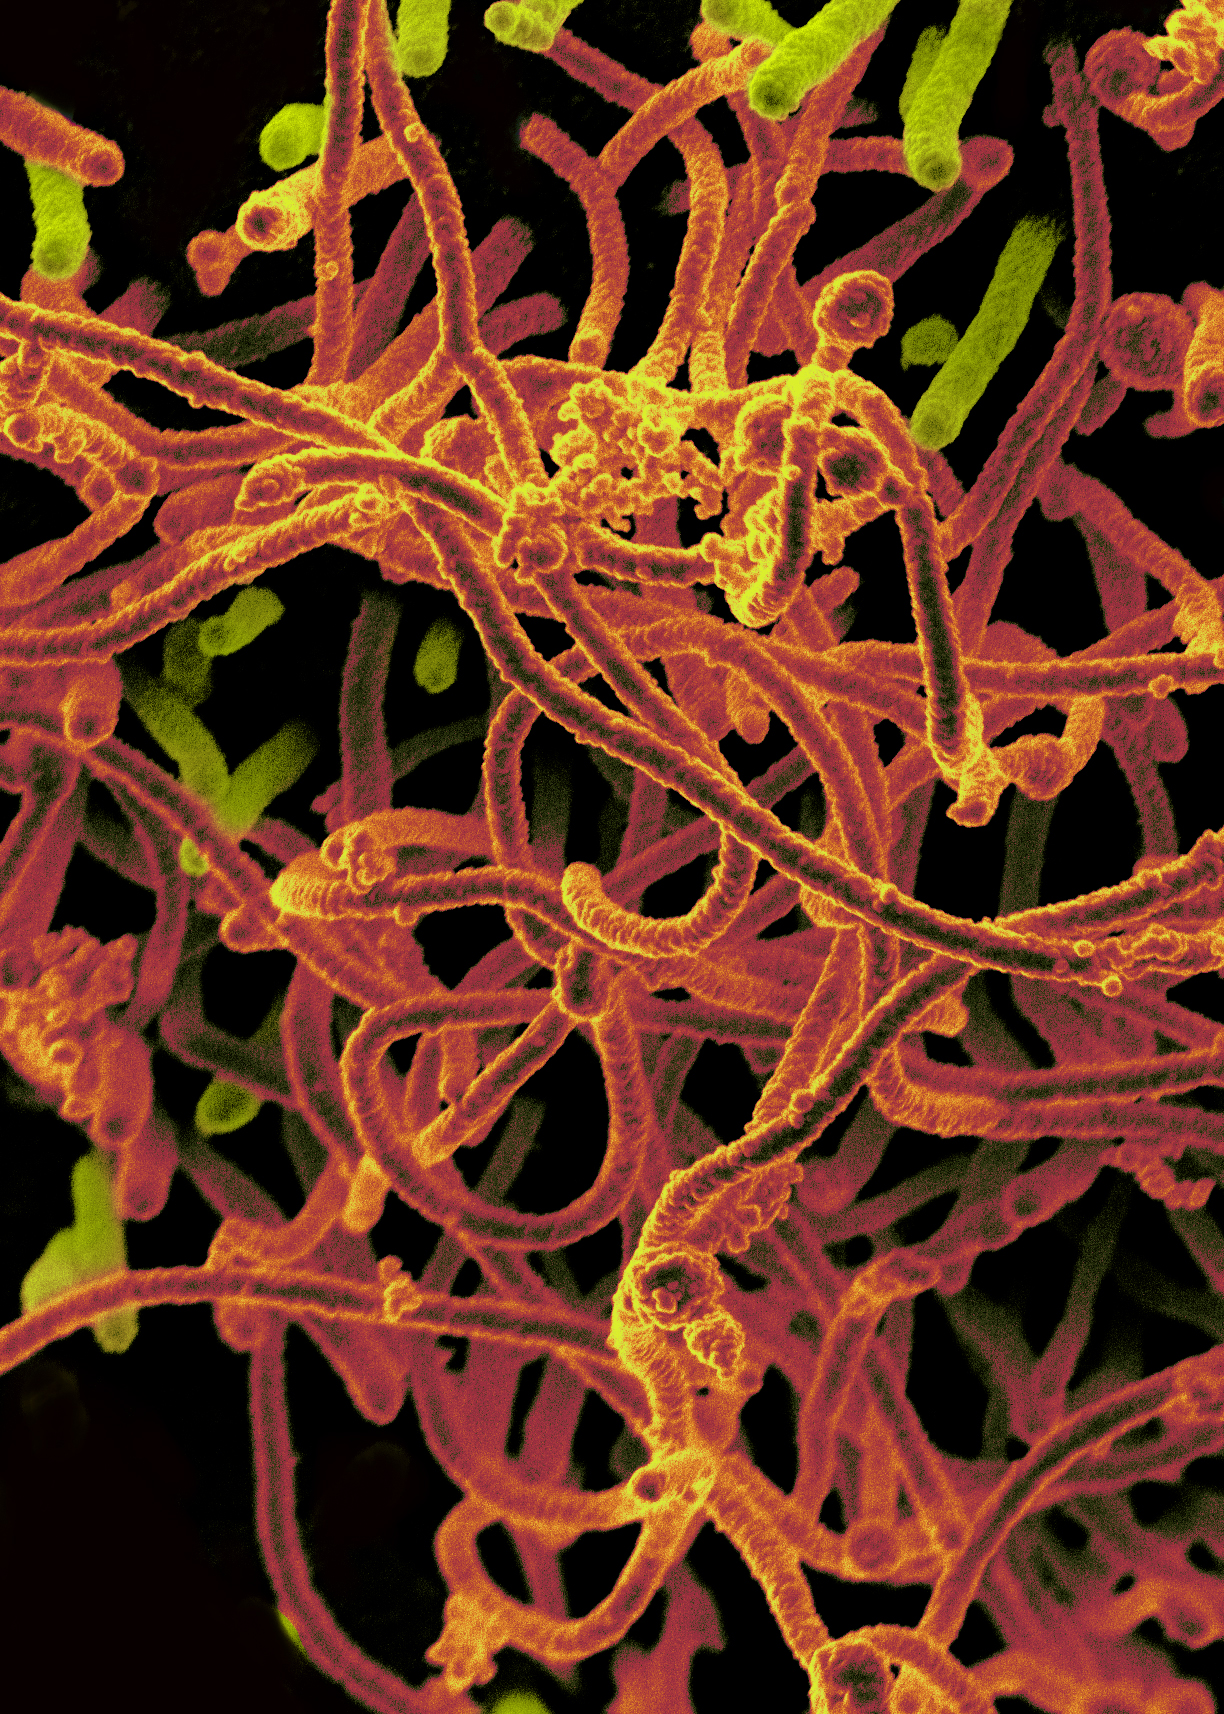COVID19: (114, 146, 918, 1114)
